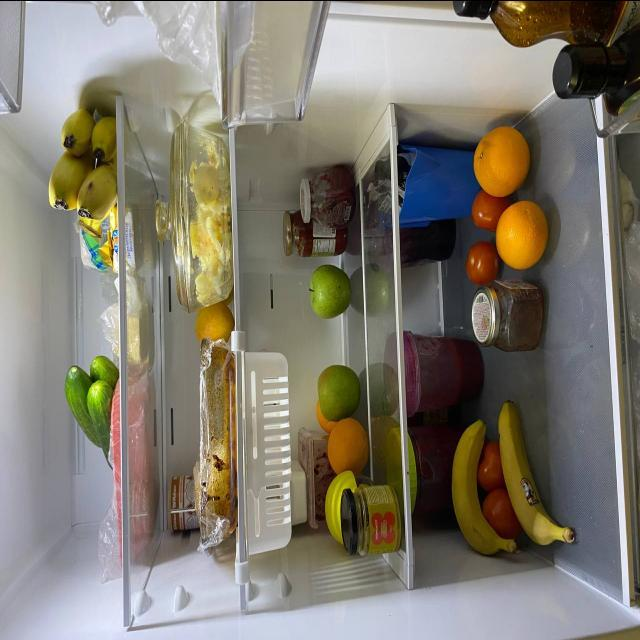Apple: (315, 361, 362, 423), (308, 262, 352, 322), (193, 300, 233, 350)
Banana: (495, 401, 575, 546), (41, 102, 115, 218), (452, 416, 507, 564)
Cucumber: (62, 364, 99, 456), (86, 384, 113, 463), (88, 354, 119, 389)
Orange: (474, 125, 532, 199), (498, 198, 547, 268), (328, 418, 368, 472), (315, 403, 331, 429)
Tomato: (483, 491, 521, 538), (464, 240, 497, 290), (476, 438, 503, 492), (472, 191, 501, 229)
